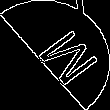M_SW: (18, 21, 92, 89)
